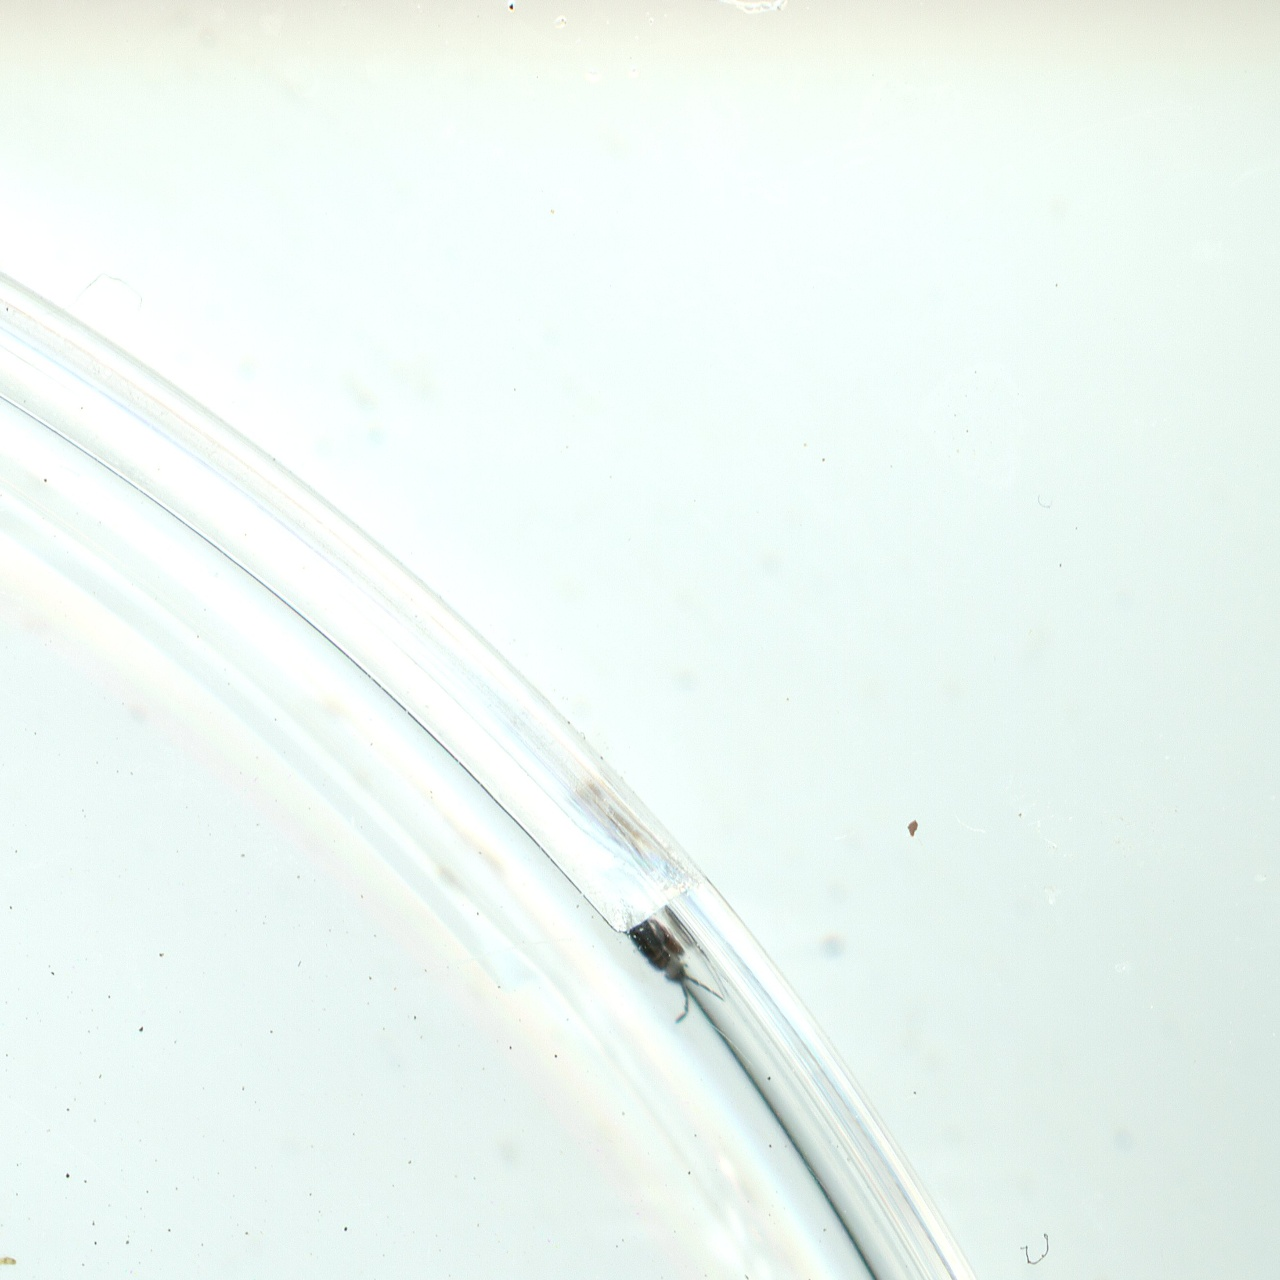arthropod: (603, 886, 734, 1036), (0, 1201, 22, 1280)
